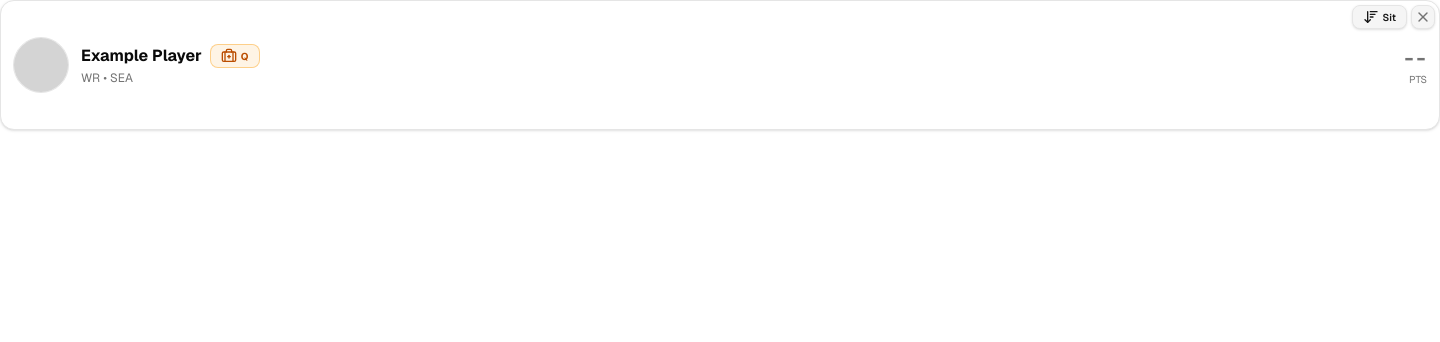
Test case: PlayerCard › uses the injury icon for a shared injury and news expansion
Click the button named "questionable updates for Example Player": (235, 56) x1=210 y1=44 x2=260 y2=68
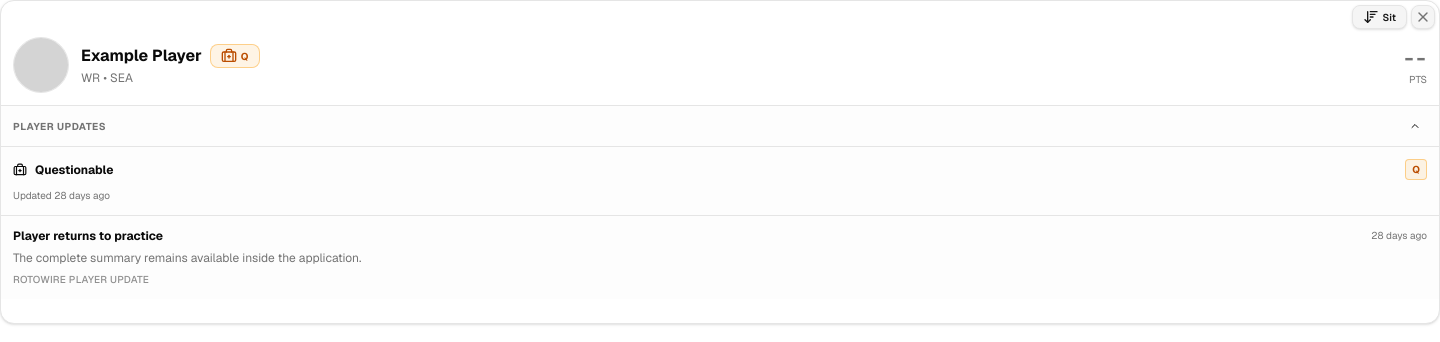
Now the heading "Player Updates" is shown, box x1=13 y1=118 x2=106 y2=134
Now the heading "questionable" is shown, box x1=35 y1=162 x2=114 y2=178
Now the heading "Player returns to practice" is shown, box x1=13 y1=228 x2=163 y2=244
